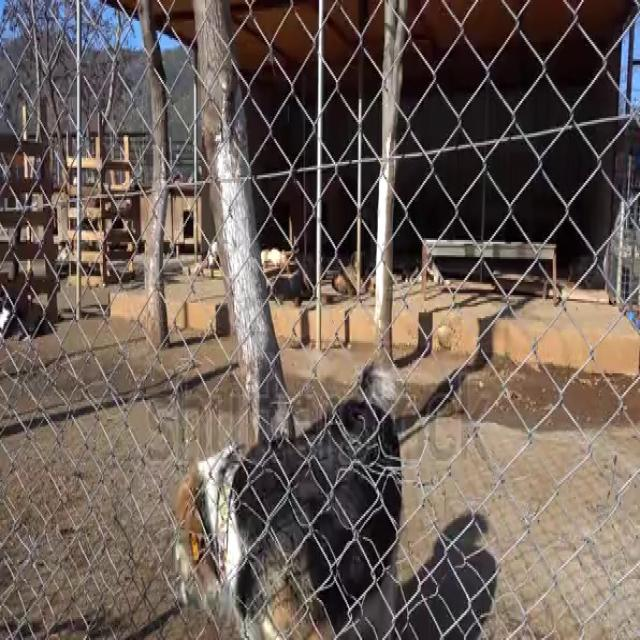injured-animals: (170, 350, 499, 634)
